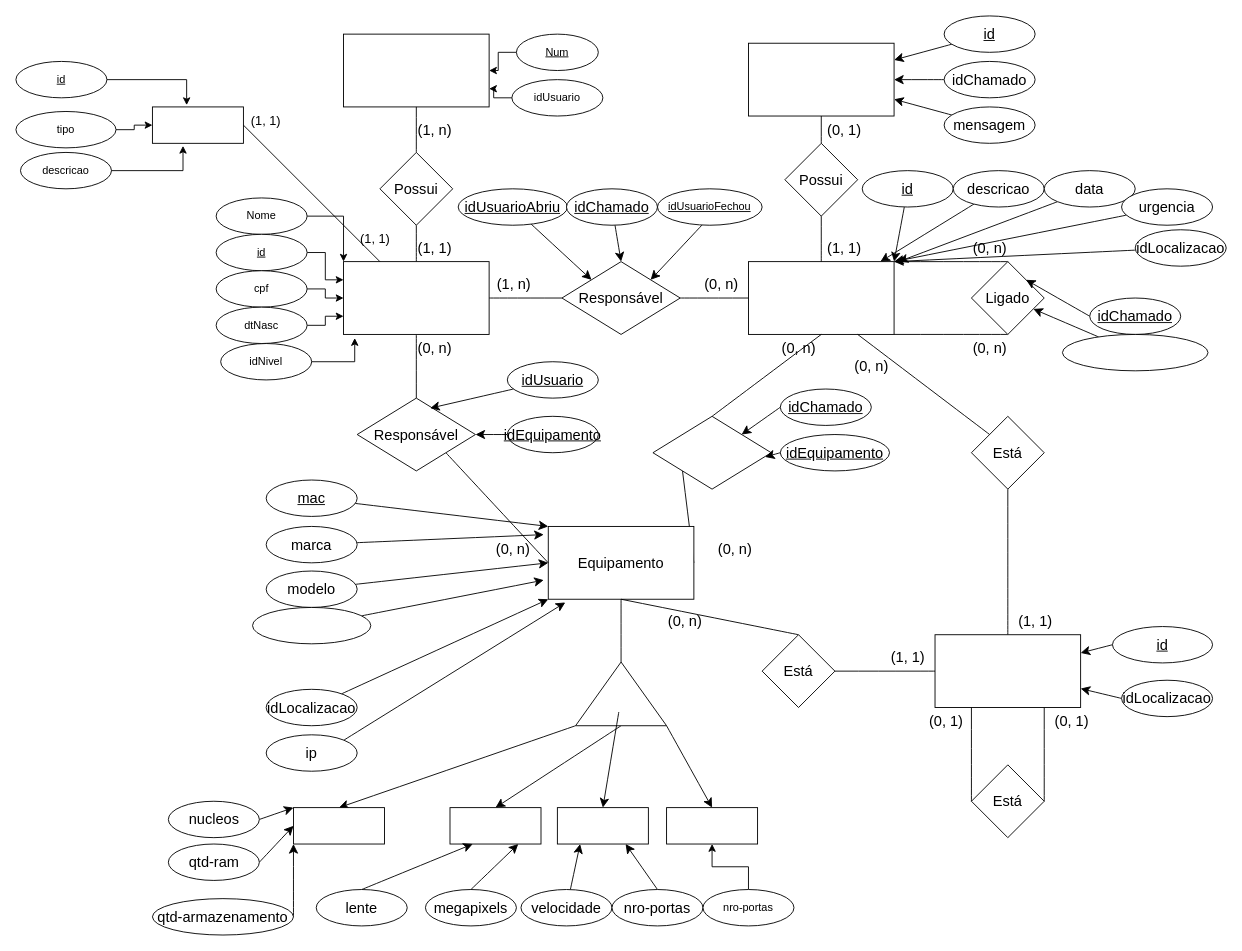
This 1242x951 diagram has some shape labels left out. Here are the shapes that lost their labels. From the top down, the box of each, then its label:
(343, 33, 489, 107): TelefoneContato
(748, 42, 894, 116): Solução de Chamado
(152, 106, 243, 143): Nivel
(343, 261, 489, 334): Usuário
(748, 261, 894, 334): Chamado
(1062, 334, 1208, 371): idChamadoLigado
(652, 415, 771, 489): Motivo
(252, 607, 371, 644): data-aquisicao
(934, 634, 1081, 708): Localização
(575, 661, 667, 726): xt
(293, 807, 384, 844): Computador
(449, 807, 541, 844): Camera
(556, 807, 648, 844): Switch
(666, 807, 758, 844): DVR
